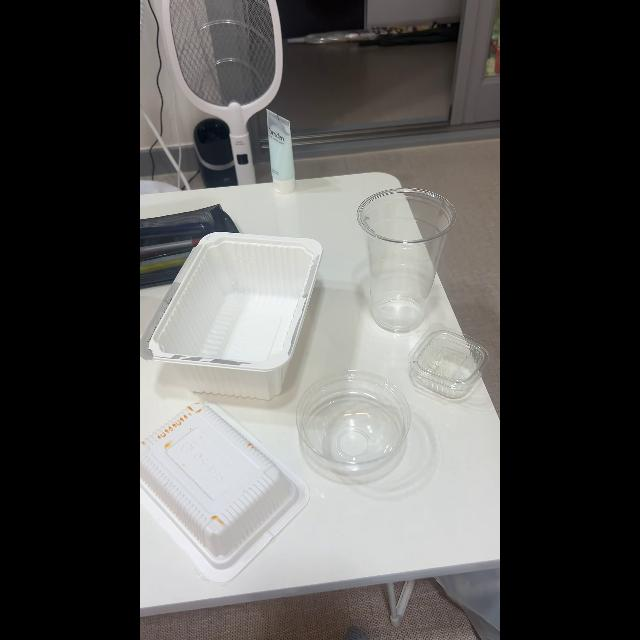clean: (152, 240, 315, 398), (293, 380, 409, 490), (359, 196, 439, 330), (416, 334, 486, 398)
dirty: (143, 402, 275, 570)
